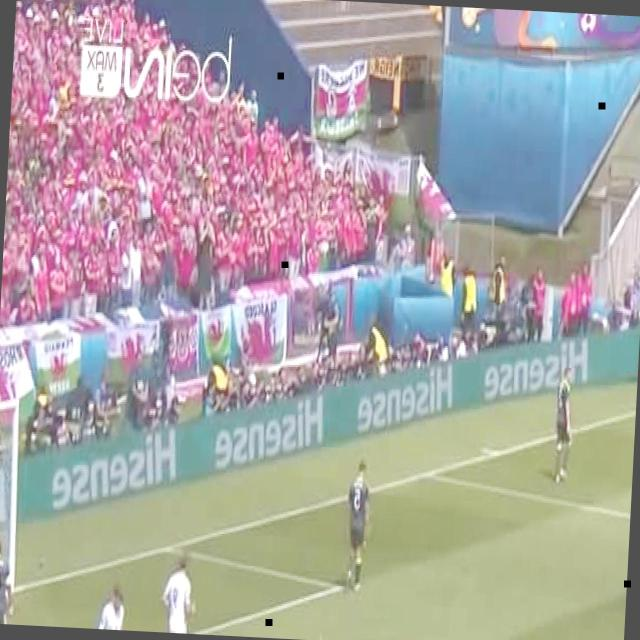player-white: (344, 460, 372, 592), (552, 363, 577, 487), (161, 554, 199, 634), (0, 538, 17, 624), (98, 585, 129, 630), (0, 511, 4, 623)
